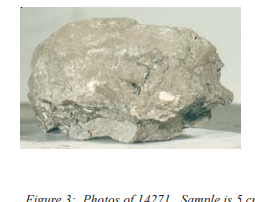Breccia: (25, 12, 239, 145)
